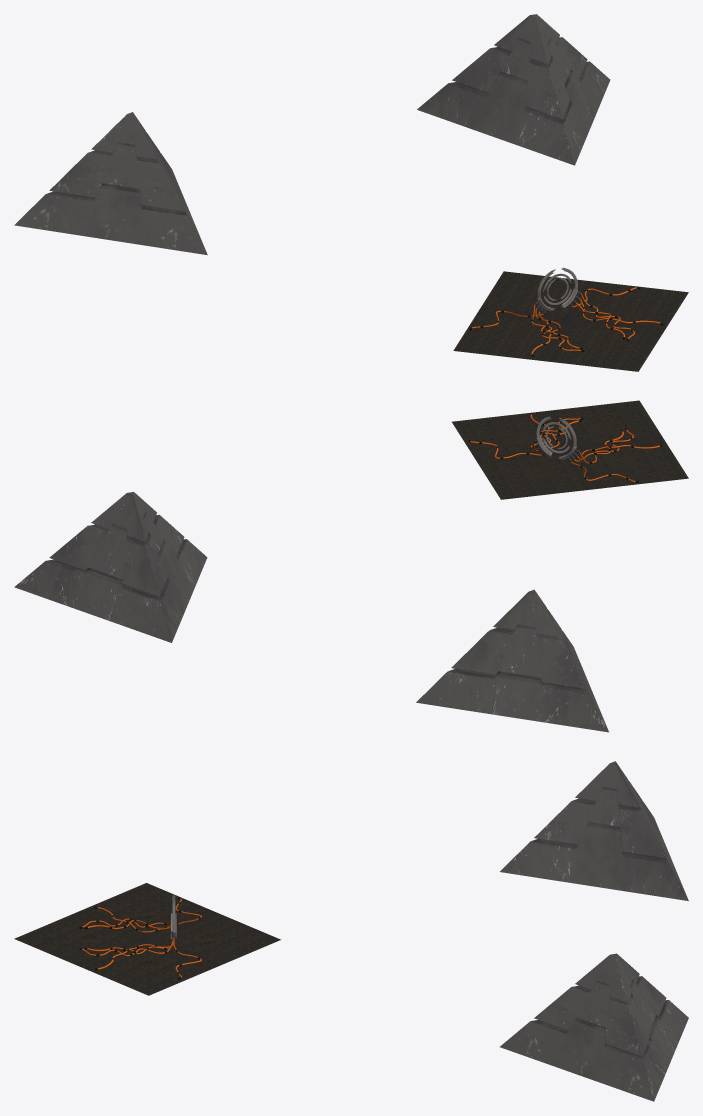
The model's file is podium-1024.glb.
3 renders of one model, top to bottom at view 1: azimuth 30°, elevation 25°; view 2: azimuth 150°, elevation 25°; view 3: azimuth 270°, elevation 25°, orthographic. The views are drawn at different scales.
Visible parts, largest first — view 1: defaultMaterial (×3); view 2: defaultMaterial (×3); view 3: defaultMaterial (×3).
Part boxes in pixels (box(x1,y1,x2,y2)): defaultMaterial (×3): box(14, 14, 688, 371); defaultMaterial (×3): box(14, 400, 688, 732); defaultMaterial (×3): box(14, 761, 688, 1101).
Size of the model in its own units: 41.65 by 6.87 by 41.74.
7 materials, 6 textured.
